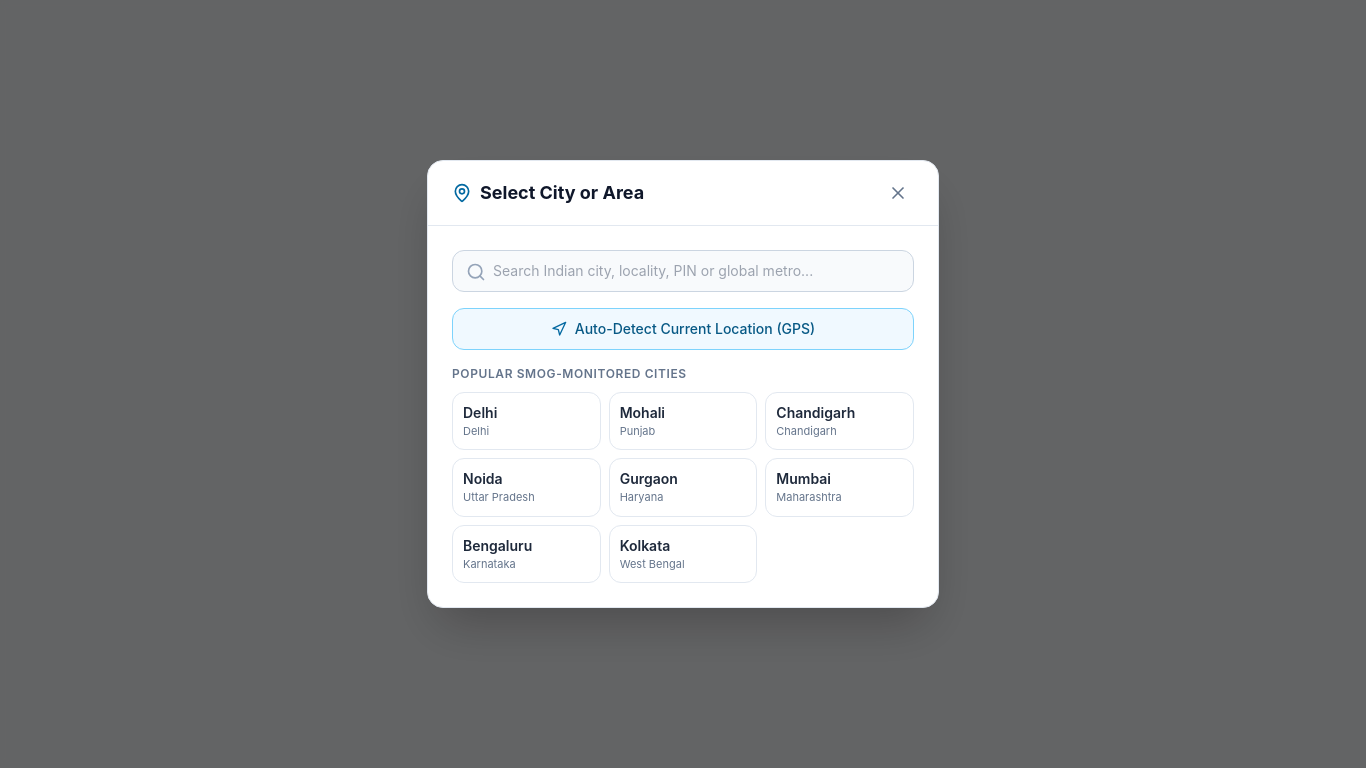
Test: LocationSearchModal › handles unsuccessful search responses without rendering preset suggestions
The width and height of the screenshot is (1366, 768).
Step 1. Type "Unknown place" into the field named "Search city or area name" → (683, 271), box [452,250,914,292]
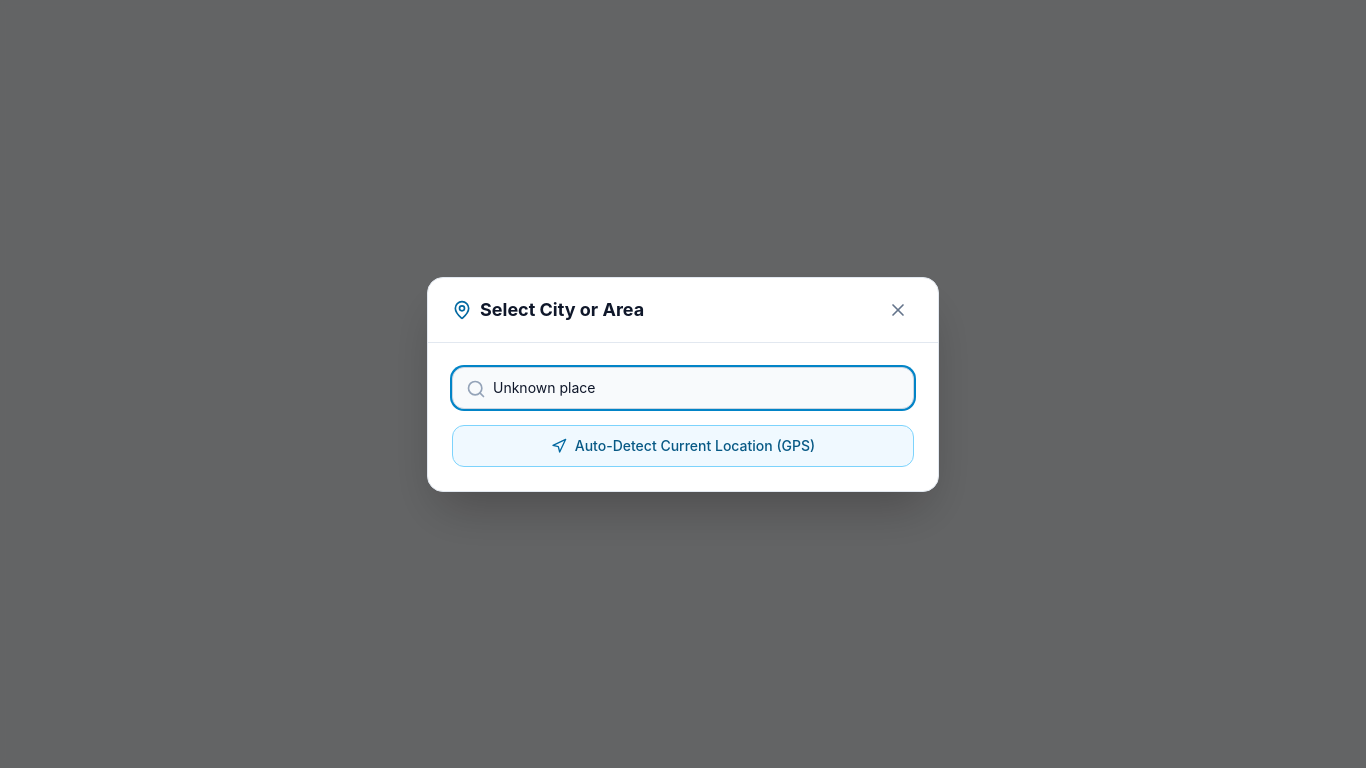
Expected: the text "Popular Smog-Monitored Cities" is gone
